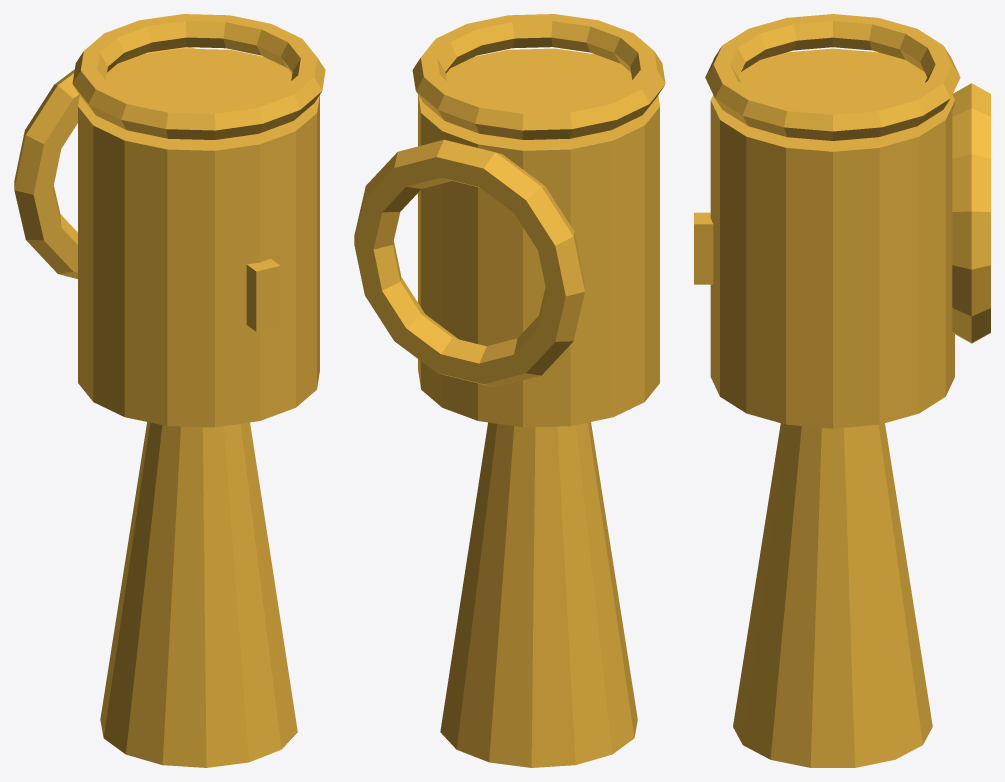
Rendered from Leaf Blower.fbx.
3 views of the same model, side by side, from view 1: azimuth 30°, elevation 25°; view 2: azimuth 150°, elevation 25°; view 3: azimuth 270°, elevation 25° (orthographic).
Parts seen in each view (by area): view 1: leaf_blower; view 2: leaf_blower; view 3: leaf_blower.
Part boxes in pixels (x1,y1,x2,y2): leaf_blower: (14,14,325,767); leaf_blower: (354,14,665,767); leaf_blower: (694,14,990,767).
Bounding box in the file's own units: 48 × 132 × 53.46.
